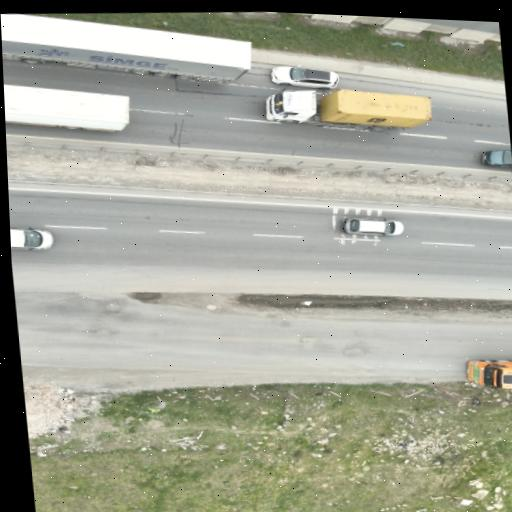car: (271, 66, 338, 89), (343, 218, 403, 236), (10, 228, 53, 250), (482, 151, 511, 168)
truck: (1, 13, 251, 82), (265, 89, 430, 131), (4, 85, 129, 132), (467, 360, 511, 389)
